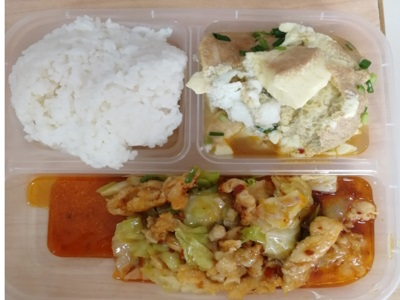jdg: (203, 29, 368, 154)
rice: (22, 26, 172, 158)
